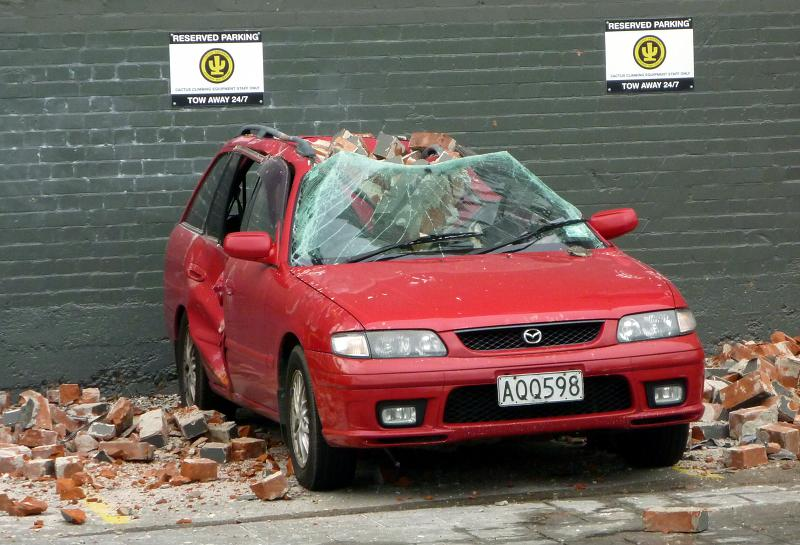Front-Windscreen-Damage: (296, 153, 558, 254)
bonnet-dent: (297, 252, 673, 327)
doorouter-dent: (167, 245, 241, 391)
roof-dent: (229, 127, 508, 158)
